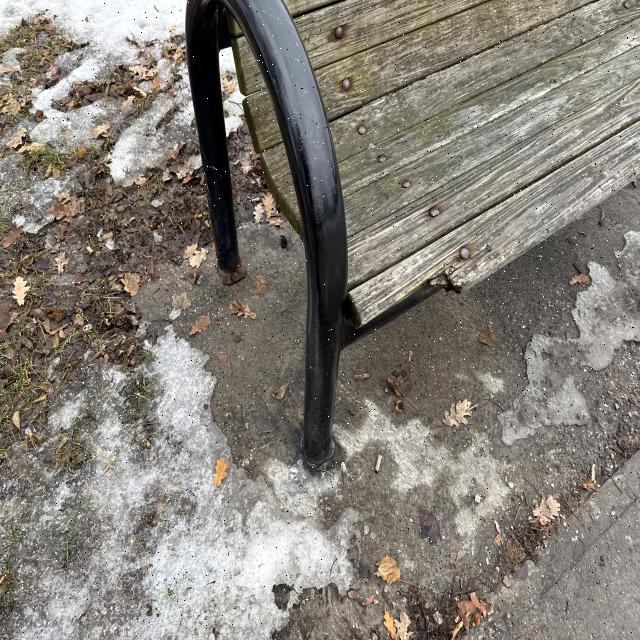Bench: (169, 6, 570, 445)
